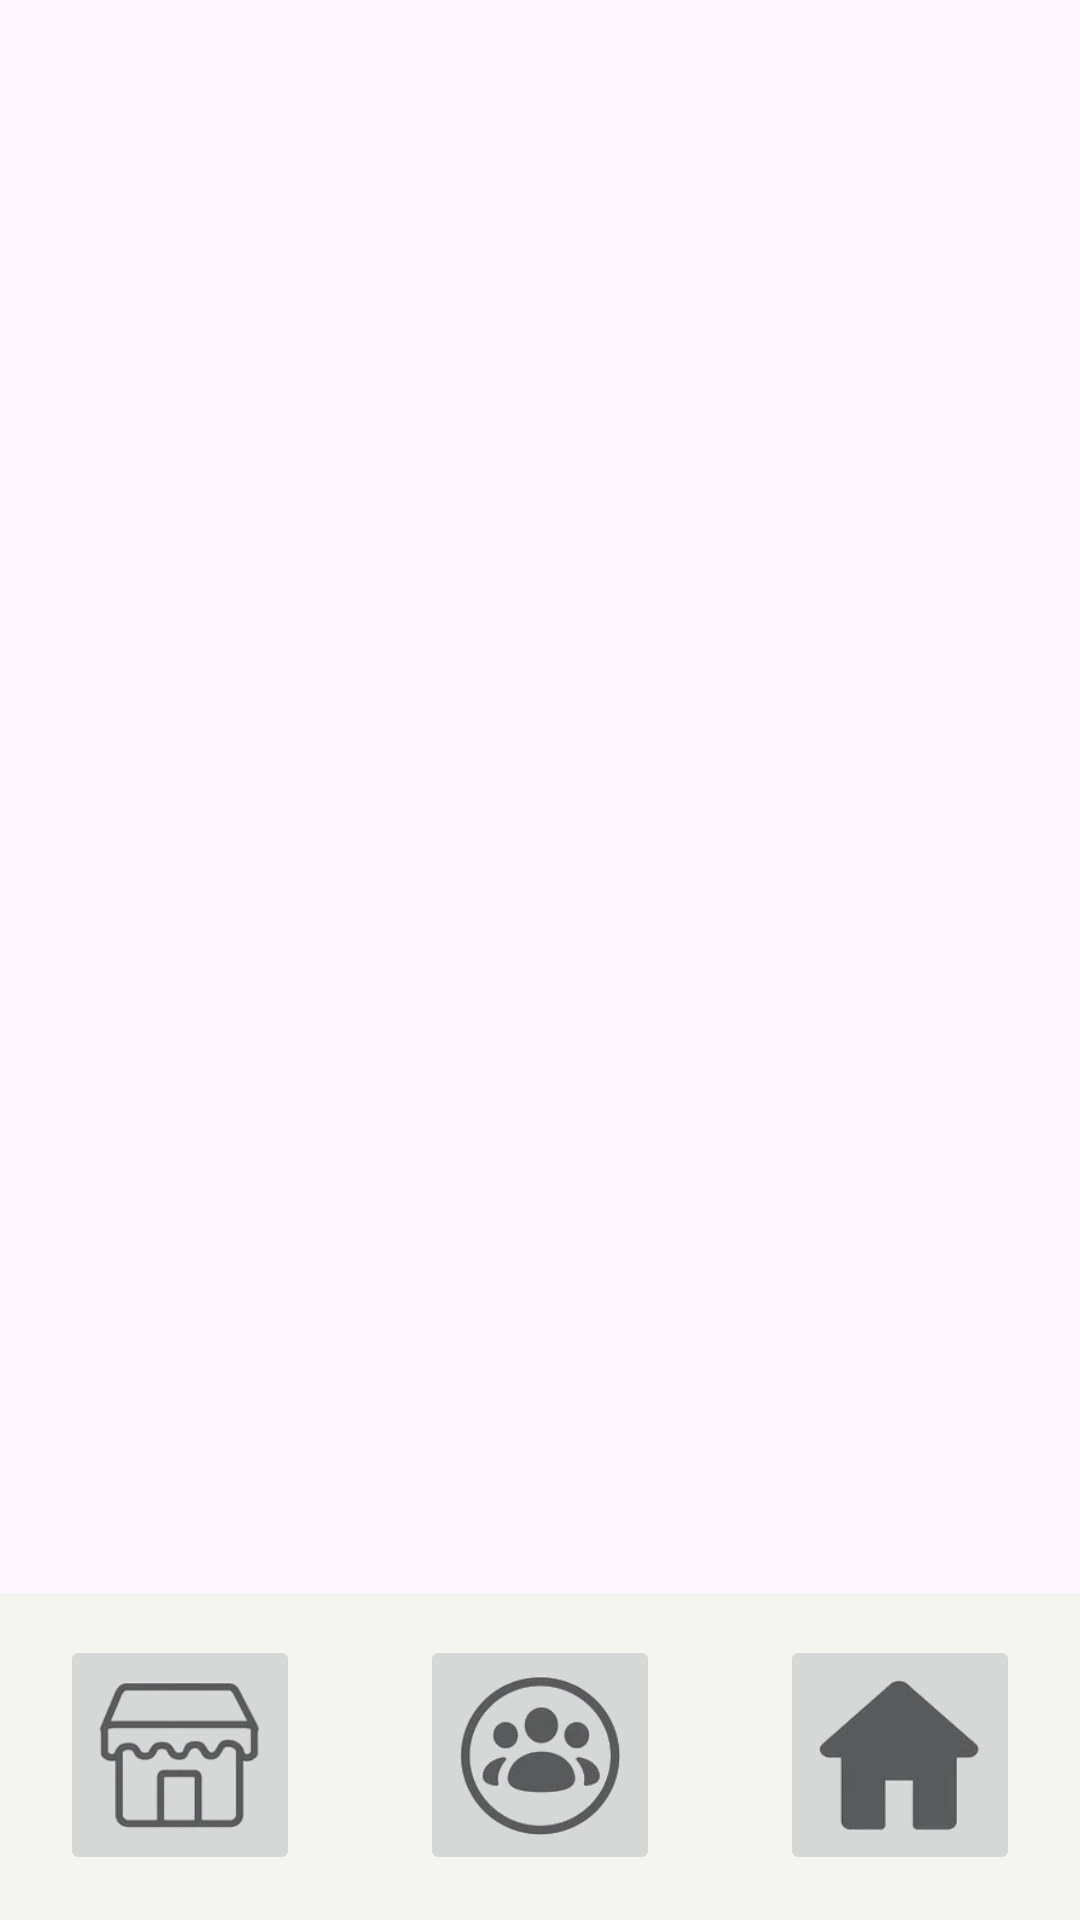

Screen size 1080 x 1920. Icon name, then its box in pixels as (x1, y1, x2, y2):
home: (792, 1653, 1008, 1857)
market: (72, 1653, 288, 1857)
